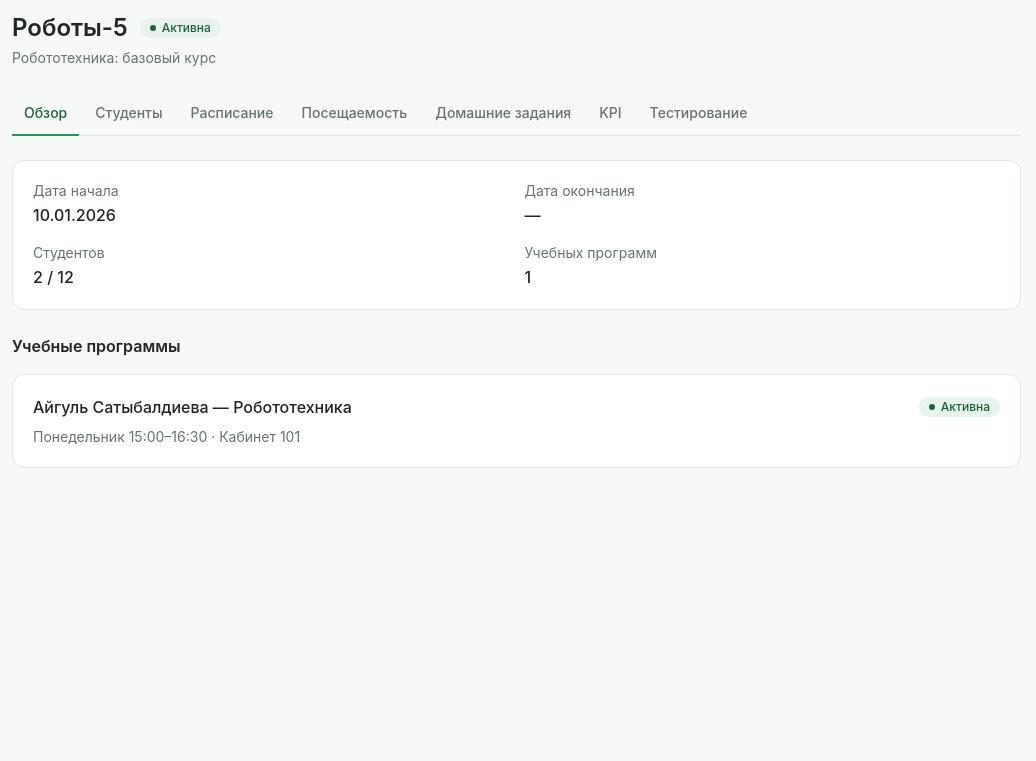
Test: «Прогресс студентов» in the group KPI › shows every student under the group card, with «Нет данных» instead of zeros
Check: the heading "Роботы-5" is shown, box [12,12,128,44]
Click the tab "KPI".
click(610, 114)  # box [587,92,634,136]
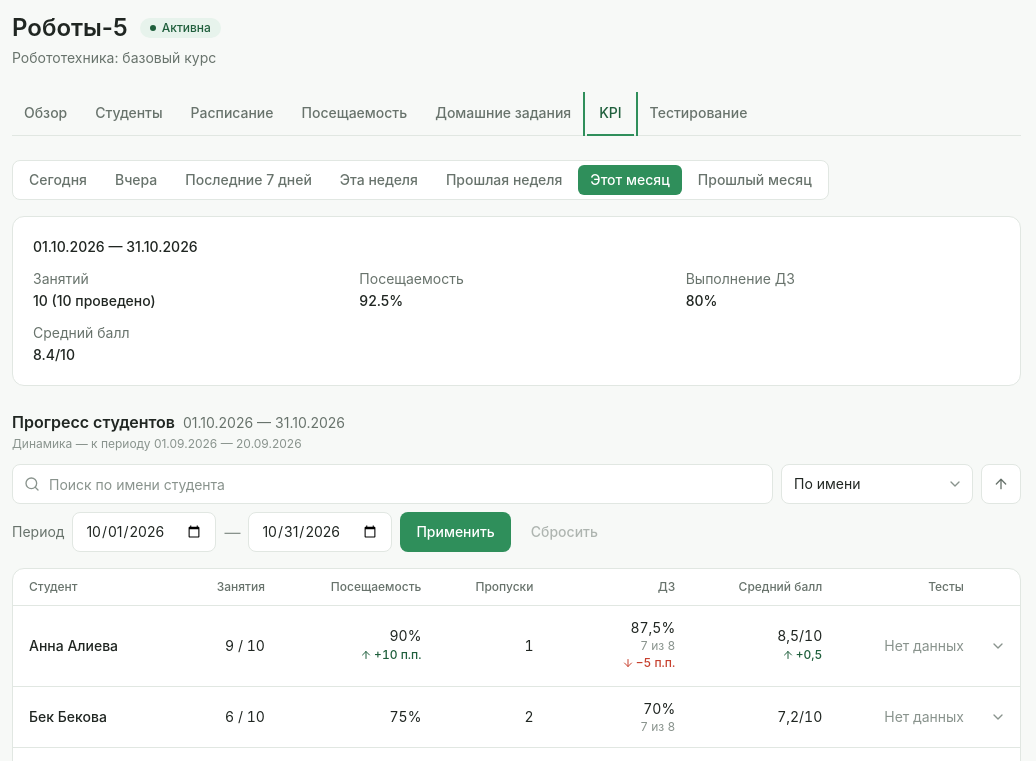
Check: the heading "Прогресс студентов01.10.2026 — 31.10.2026" is shown, box [12,412,345,432]
Check: the text "10 (10 проведено)" is shown, box [33,292,156,309]
Check: the text "90%" is shown, box [390,627,421,644]
